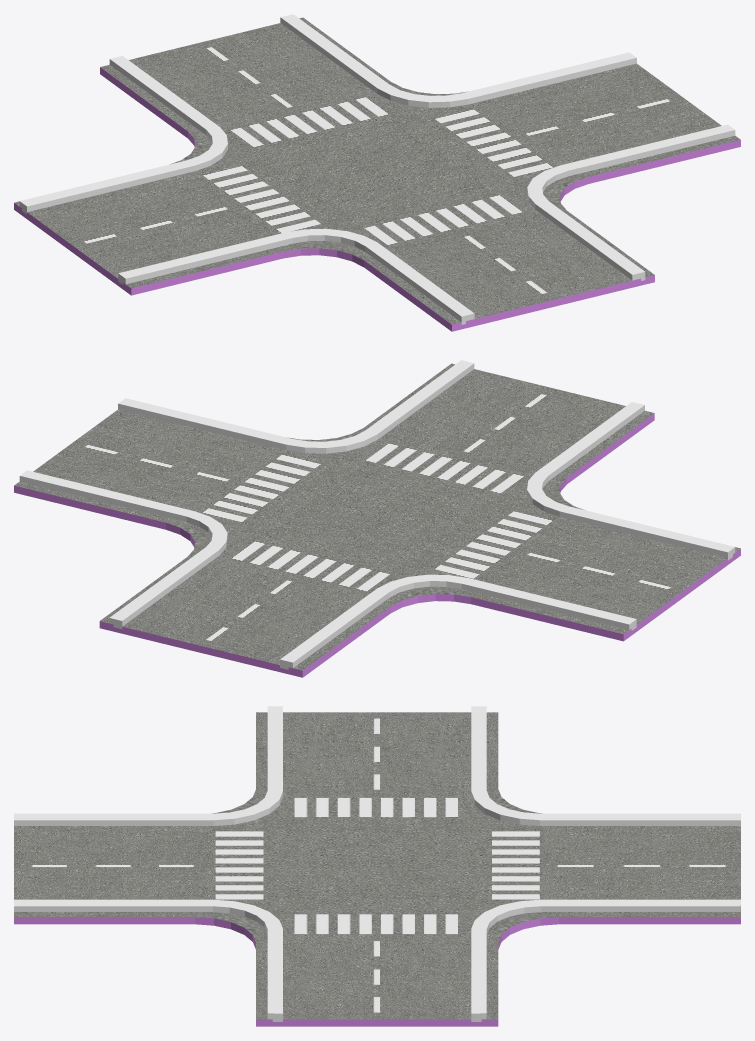
The model's file is 4Road.fbx.
3 renders of one model, top to bottom at view 1: azimuth 30°, elevation 25°; view 2: azimuth 150°, elevation 25°; view 3: azimuth 270°, elevation 25°, orthographic. The views are drawn at different scales.
Visible parts, largest first — view 1: 4Road; view 2: 4Road; view 3: 4Road.
Part boxes in pixels (<box>): 4Road: <box>14,14,740,331</box>; 4Road: <box>14,360,740,677</box>; 4Road: <box>14,706,740,1026</box>.
Bounding box in the file's own units: 1800 × 36.05 × 1801.
